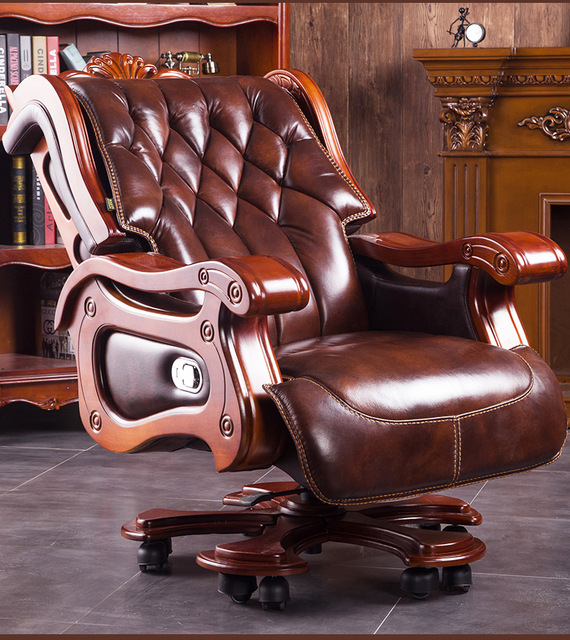chairs: (4, 66, 569, 608)
